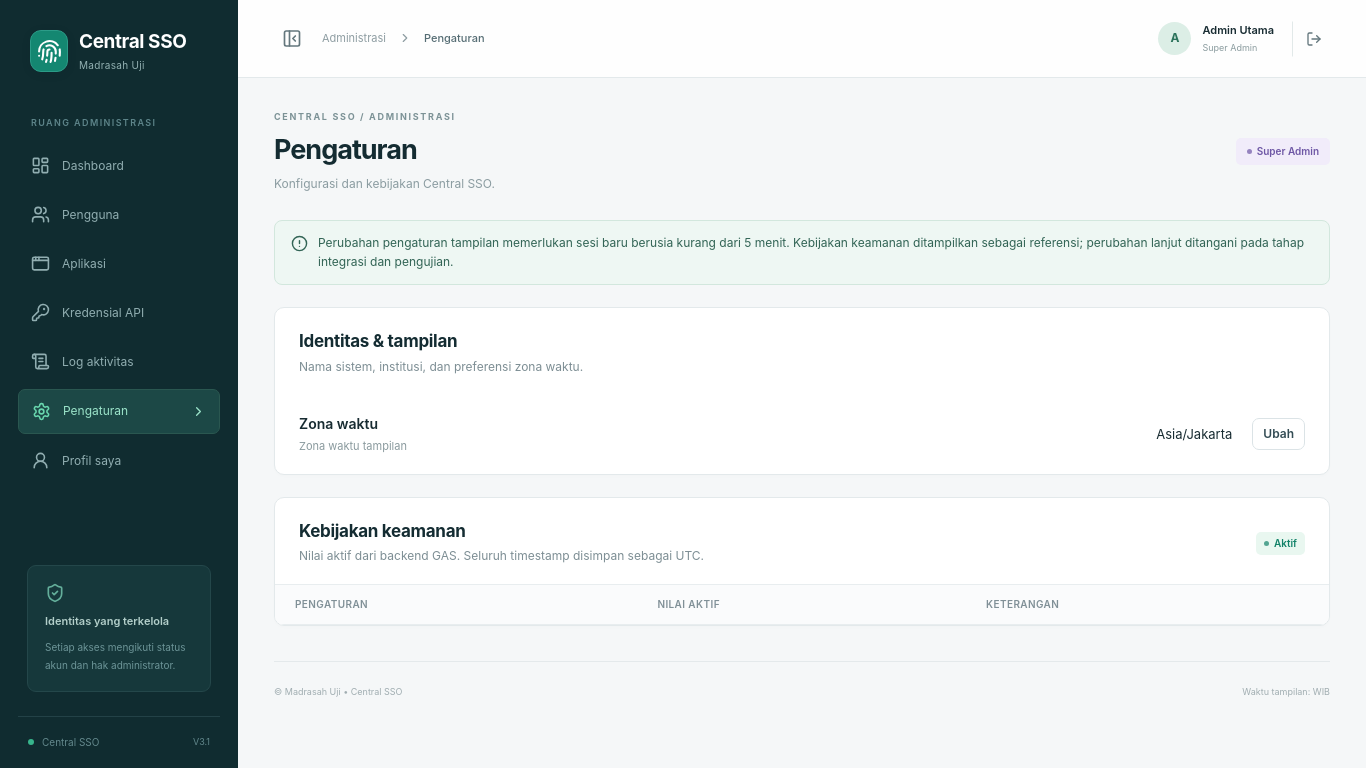
Test: UI11 preferensi institusi dan zona waktu berasal dari backend dan berubah setelah penyimpanan
Expected: the text "Waktu tampilan: WIB" is shown, [1242,685,1330,699]
Click the button "Ubah" at x=1279, y=434, box [1252,418,1305,450]
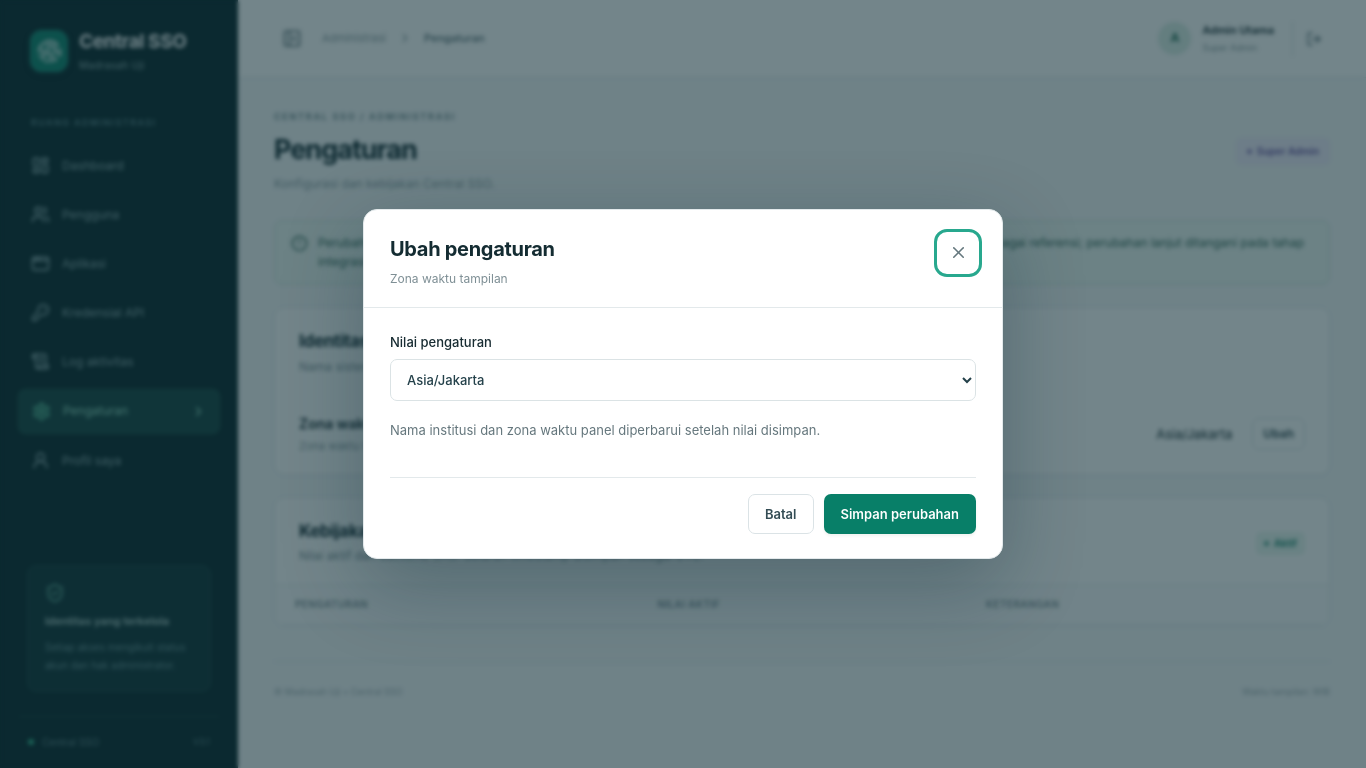
Select "Asia/Makassar" in the dropdown labelled "Nilai pengaturan" at x=683, y=380, box [390,359,976,401]
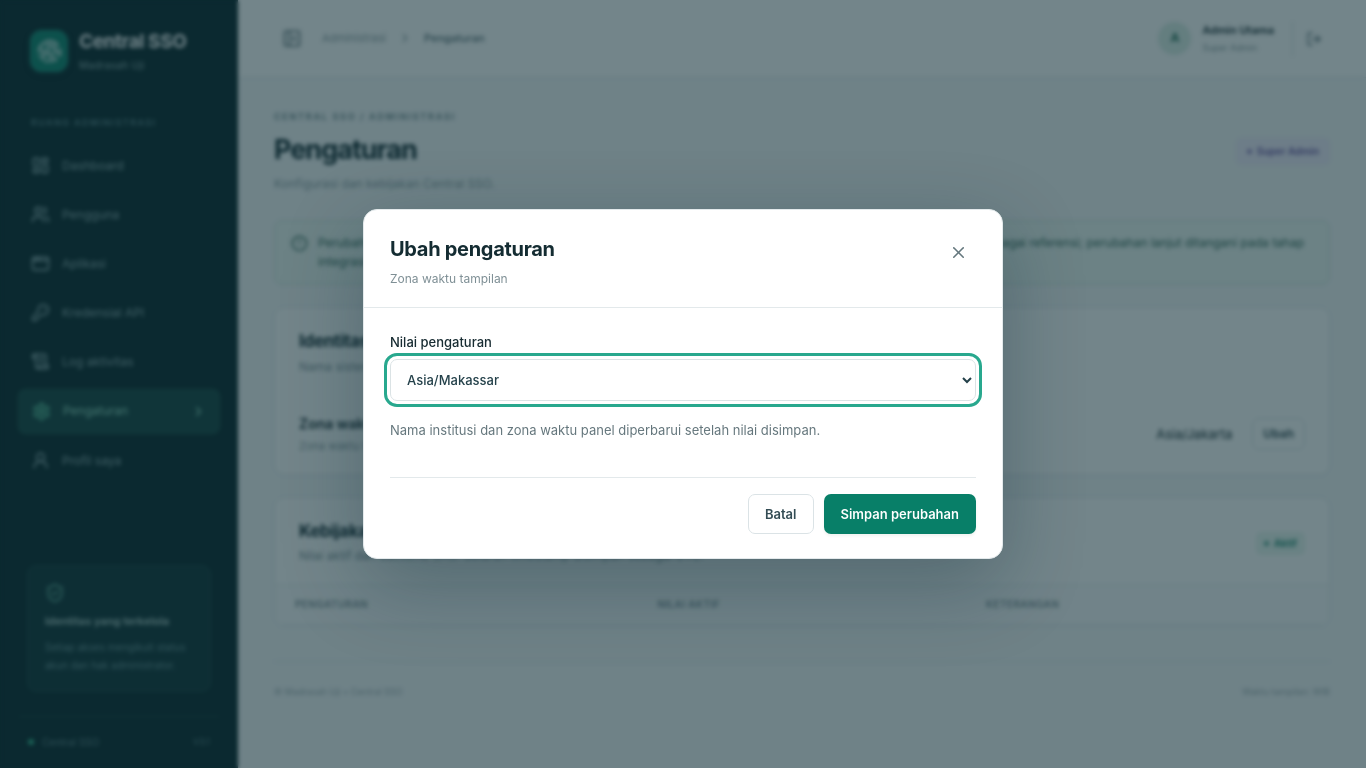
Click the button "Simpan perubahan" at x=900, y=514, box [824,494,976,534]
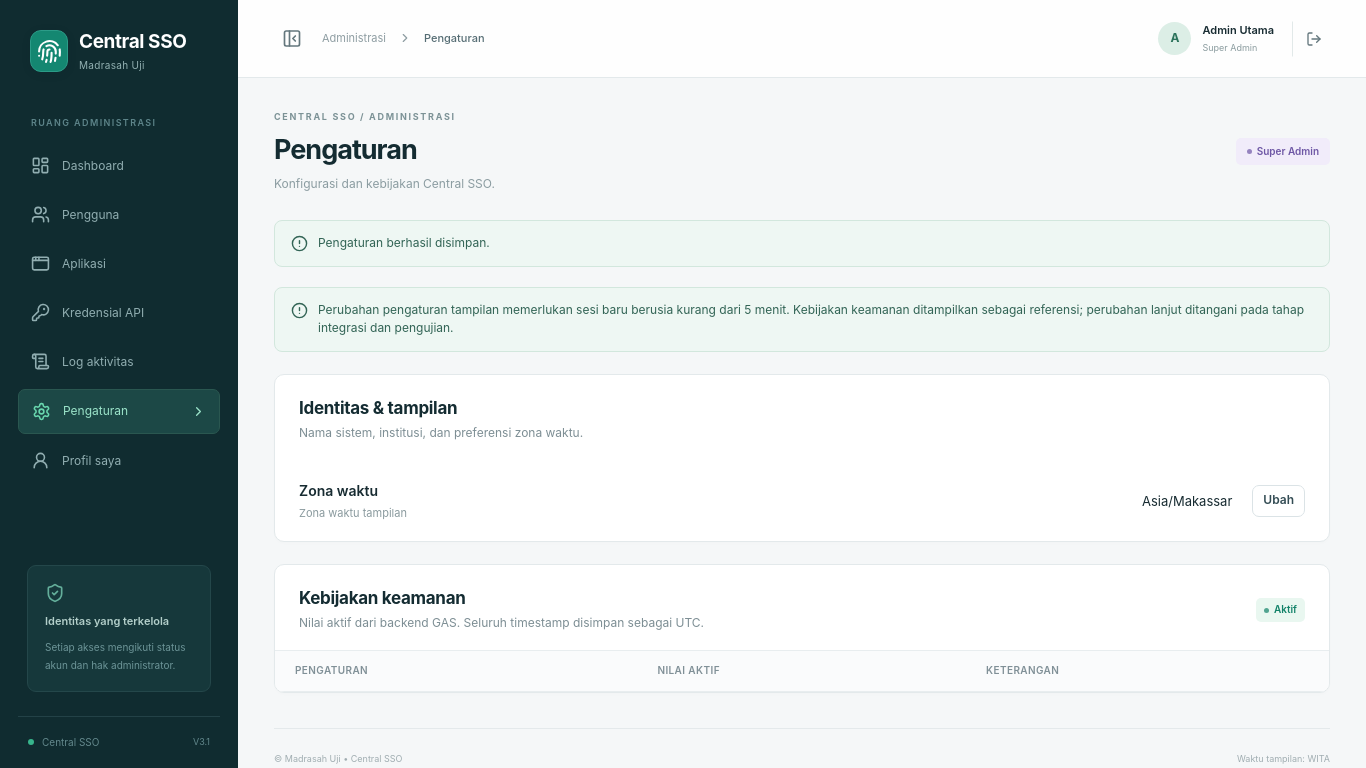
Expected: the text "Madrasah Uji" is shown, [79,59,145,71]
Expected: the text "Waktu tampilan: WITA" is shown, [1237,752,1330,766]
